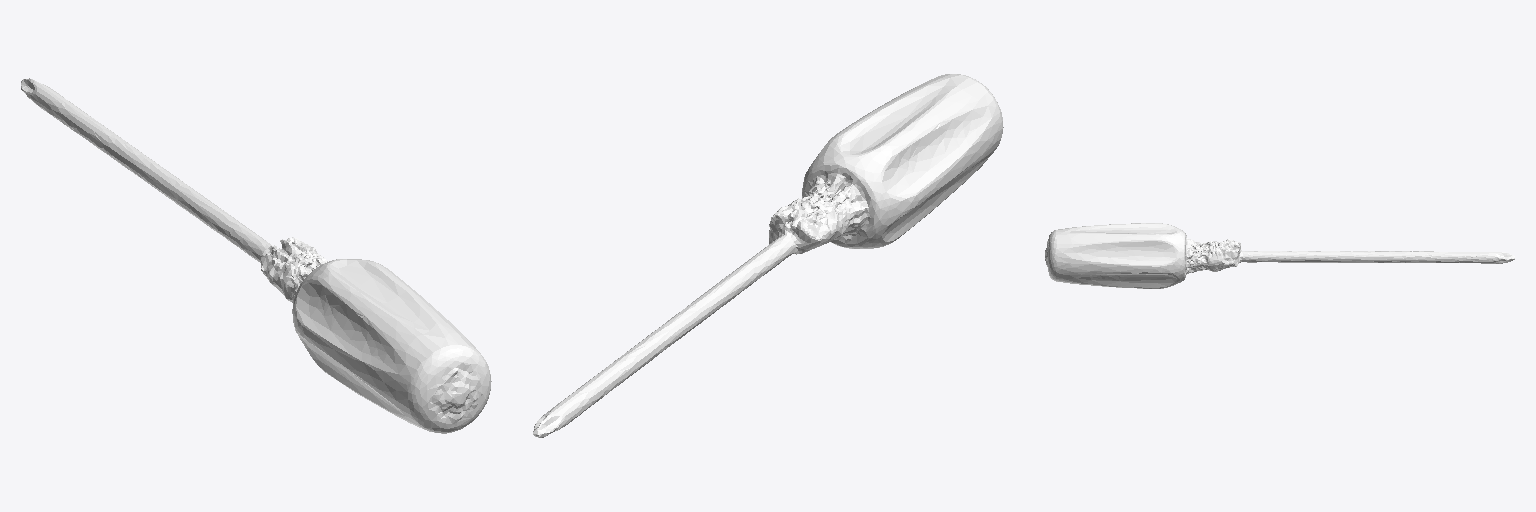
URDF robot description (model):
<?xml version="1.0" ?>
    <robot name="model">
    <link name="base">
        <inertial>
            <origin rpy="0 0 0" xyz="0 0 0"/>
            <mass value="1.0"/>
            <inertia ixx="1" ixy="0" ixz="0" iyy="1" iyz="0" izz="1"/>
        </inertial>
    <visual>
        <origin rpy="0 0 0" xyz="0 0 0"/>
        <geometry>
        <mesh filename="./meshes/model.obj" scale="1 1 1"/>
        </geometry>
        <material name="white">
        <color rgba="1 1 1 1"/>
        </material>
    </visual>
    <collision>
        <origin rpy="0 0 0" xyz="0 0 0"/>
        <geometry>
        <mesh filename="./meshes/model_vhacd.obj" scale="1 1 1"/>
        </geometry>
    </collision>
    </link>
    <link name="grasp">
        <inertial>
        <origin rpy="0 0 0" xyz="0 0 0"/>
        <mass value="0.0"/>
        <inertia ixx="1" ixy="0" ixz="0" iyy="1" iyz="0" izz="1"/>
        </inertial>
    </link>
    <joint name="base__grasp" type="fixed">
        <origin xyz="0.0 -0.032 0.0" rpy="0.0 0.0 0.0"/>
        <parent link="base"/>
        <child link="grasp"/>
    </joint>
    </robot>

--- Facts derived from the render (not from the file) ---
The picture shows the robot from 3 angles, left to right: view 1: azimuth 30°, elevation 25°; view 2: azimuth 150°, elevation 25°; view 3: azimuth 270°, elevation 25°; orthographic projection.
Model model with 2 links and 1 joints (1 fixed), rooted at base, posed all joints at 0.
Links seen in each view (by area): view 1: base; view 2: base; view 3: base.
Link boxes in pixels (x1,y1,x2,y2): base: (21,78,491,433); base: (533,74,1003,437); base: (1045,223,1514,288).
Bounding box of the posed robot: 0.0363 × 0.2613 × 0.0331 m (x, y, z).
Meshes: 1 distinct files referenced, 1 mesh visuals loaded (1 OBJ).